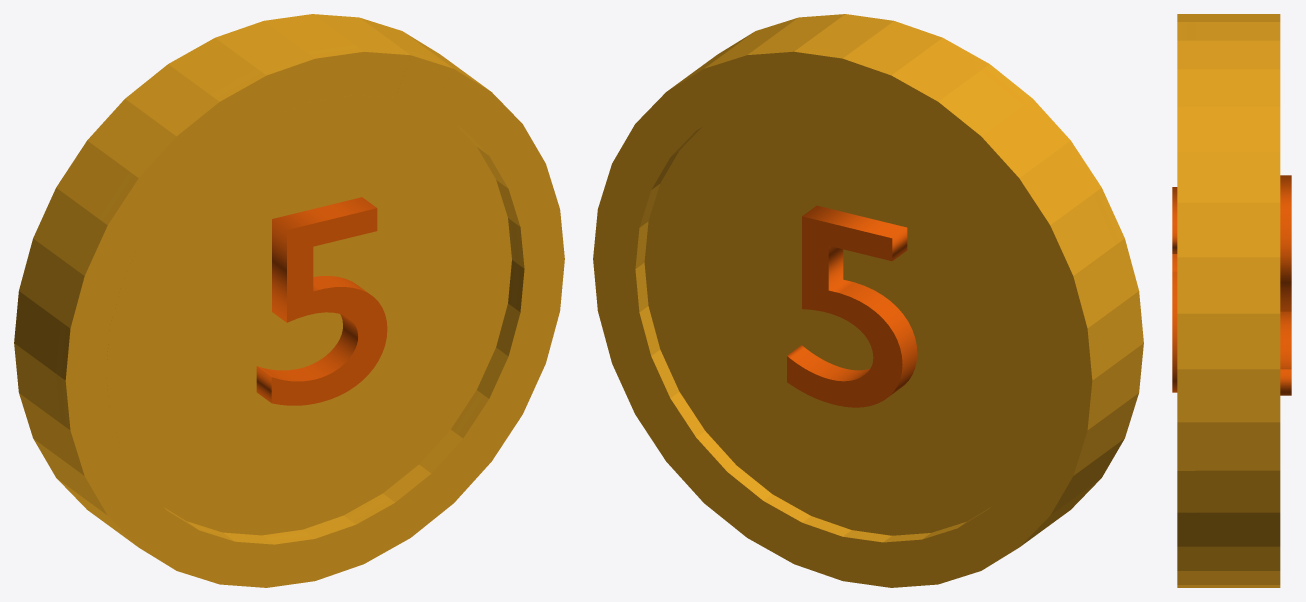
The model's file is moeda2.fbx.
3 renders of one model, left to right at view 1: azimuth 30°, elevation 25°; view 2: azimuth 150°, elevation 25°; view 3: azimuth 270°, elevation 25°, orthographic.
Parts seen in each view (by area): view 1: Cylinder, Object.002; view 2: Cylinder, Object.001; view 3: Cylinder, Object.001, Object.002.
Boxes of the visible parts, <box> form: Cylinder: <box>14,14,564,587</box>; Object.002: <box>256,197,387,405</box>; Cylinder: <box>593,14,1143,587</box>; Object.001: <box>787,205,917,407</box>; Cylinder: <box>1177,14,1280,587</box>; Object.001: <box>1280,175,1291,395</box>; Object.002: <box>1172,187,1177,392</box>.
Size of the model in its own units: 200 by 200 by 41.56.
